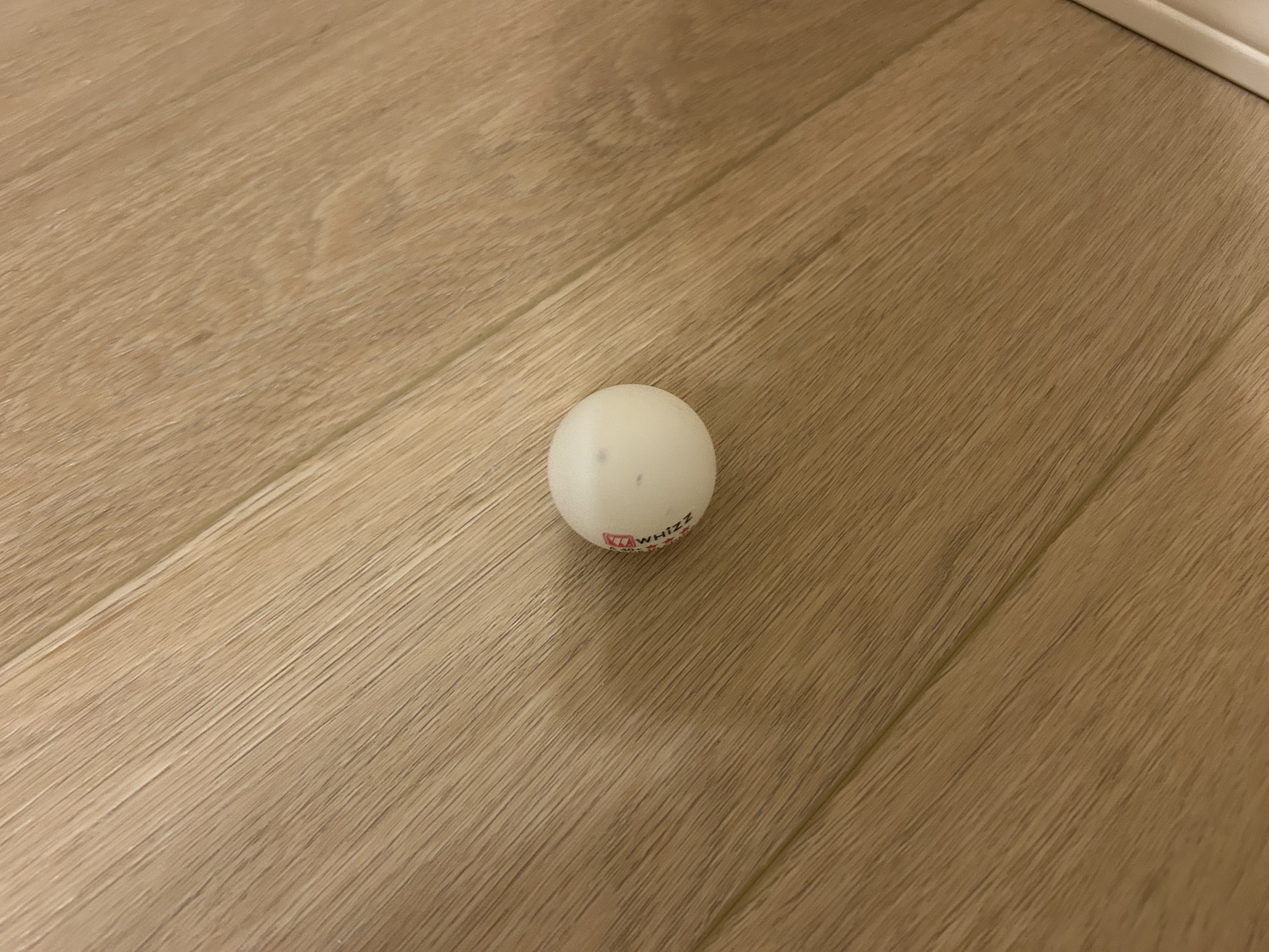Ball: (532, 383, 726, 557)
